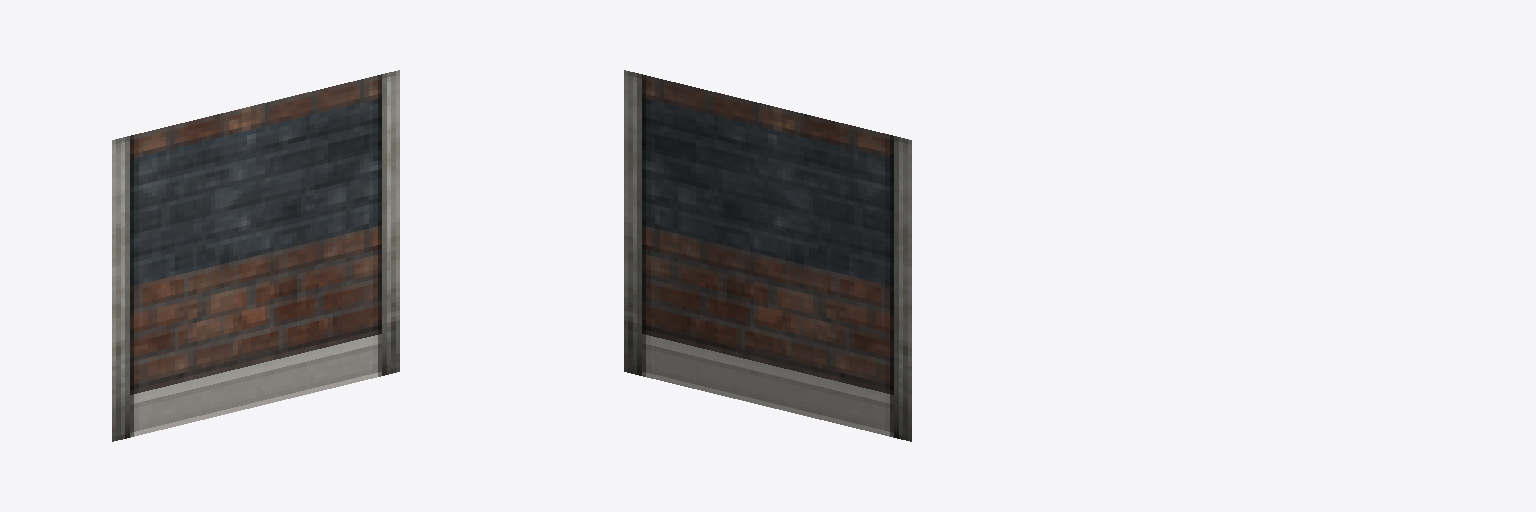
3 views of the same model, side by side, from view 1: azimuth 30°, elevation 25°; view 2: azimuth 150°, elevation 25°; view 3: azimuth 270°, elevation 25° (orthographic).
Visible parts, largest first — view 1: wallA_flatPainted; view 2: wallA_flatPainted; view 3: none.
Part boxes in pixels (left/top/right/bottom): wallA_flatPainted: left=112, top=70, right=399, bottom=441; wallA_flatPainted: left=624, top=70, right=911, bottom=441.
Bounding box in the file's own units: 1 × 1 × 0.
Materials: 1 (1 with a texture image).